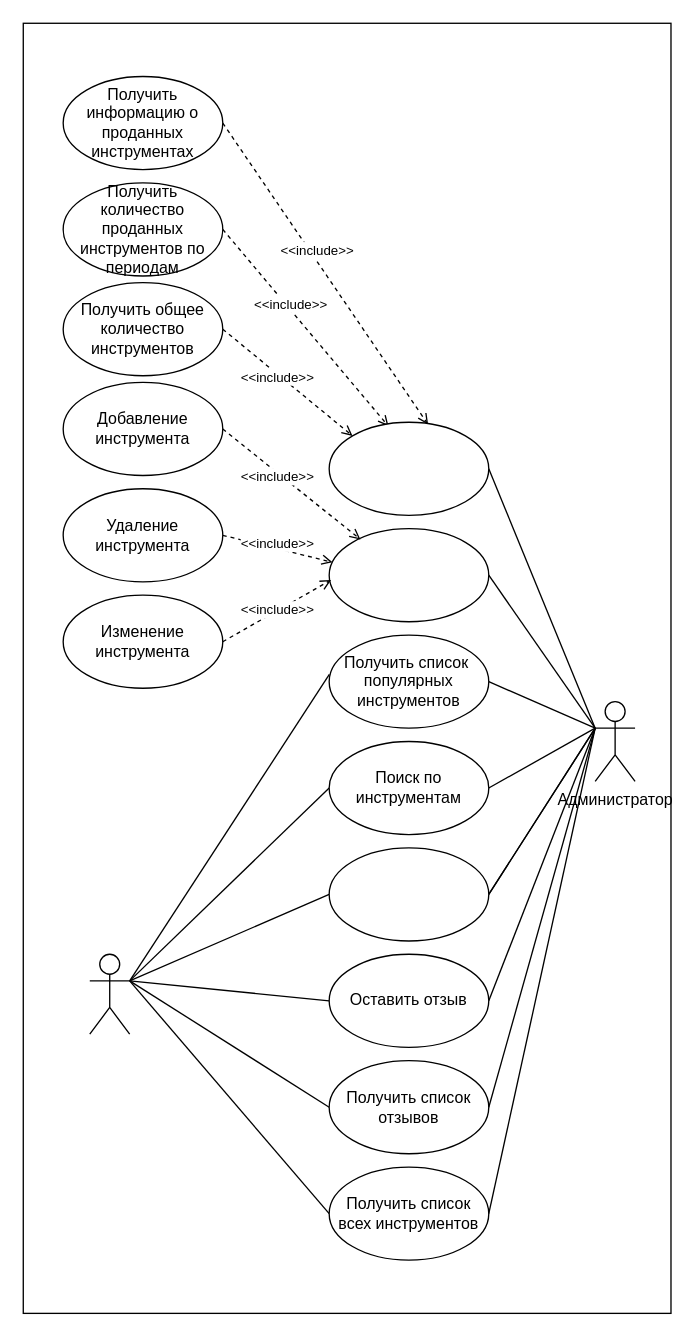
Image size: 696x1337. Some labels were removed from this diagram. Each missing label, with the box of its shape:
Анализ продукции: (328, 421, 489, 515)
Заказ инструмента: (328, 847, 489, 941)
Пользователь: (88, 953, 130, 1034)
Управление инструментами: (328, 527, 489, 622)
